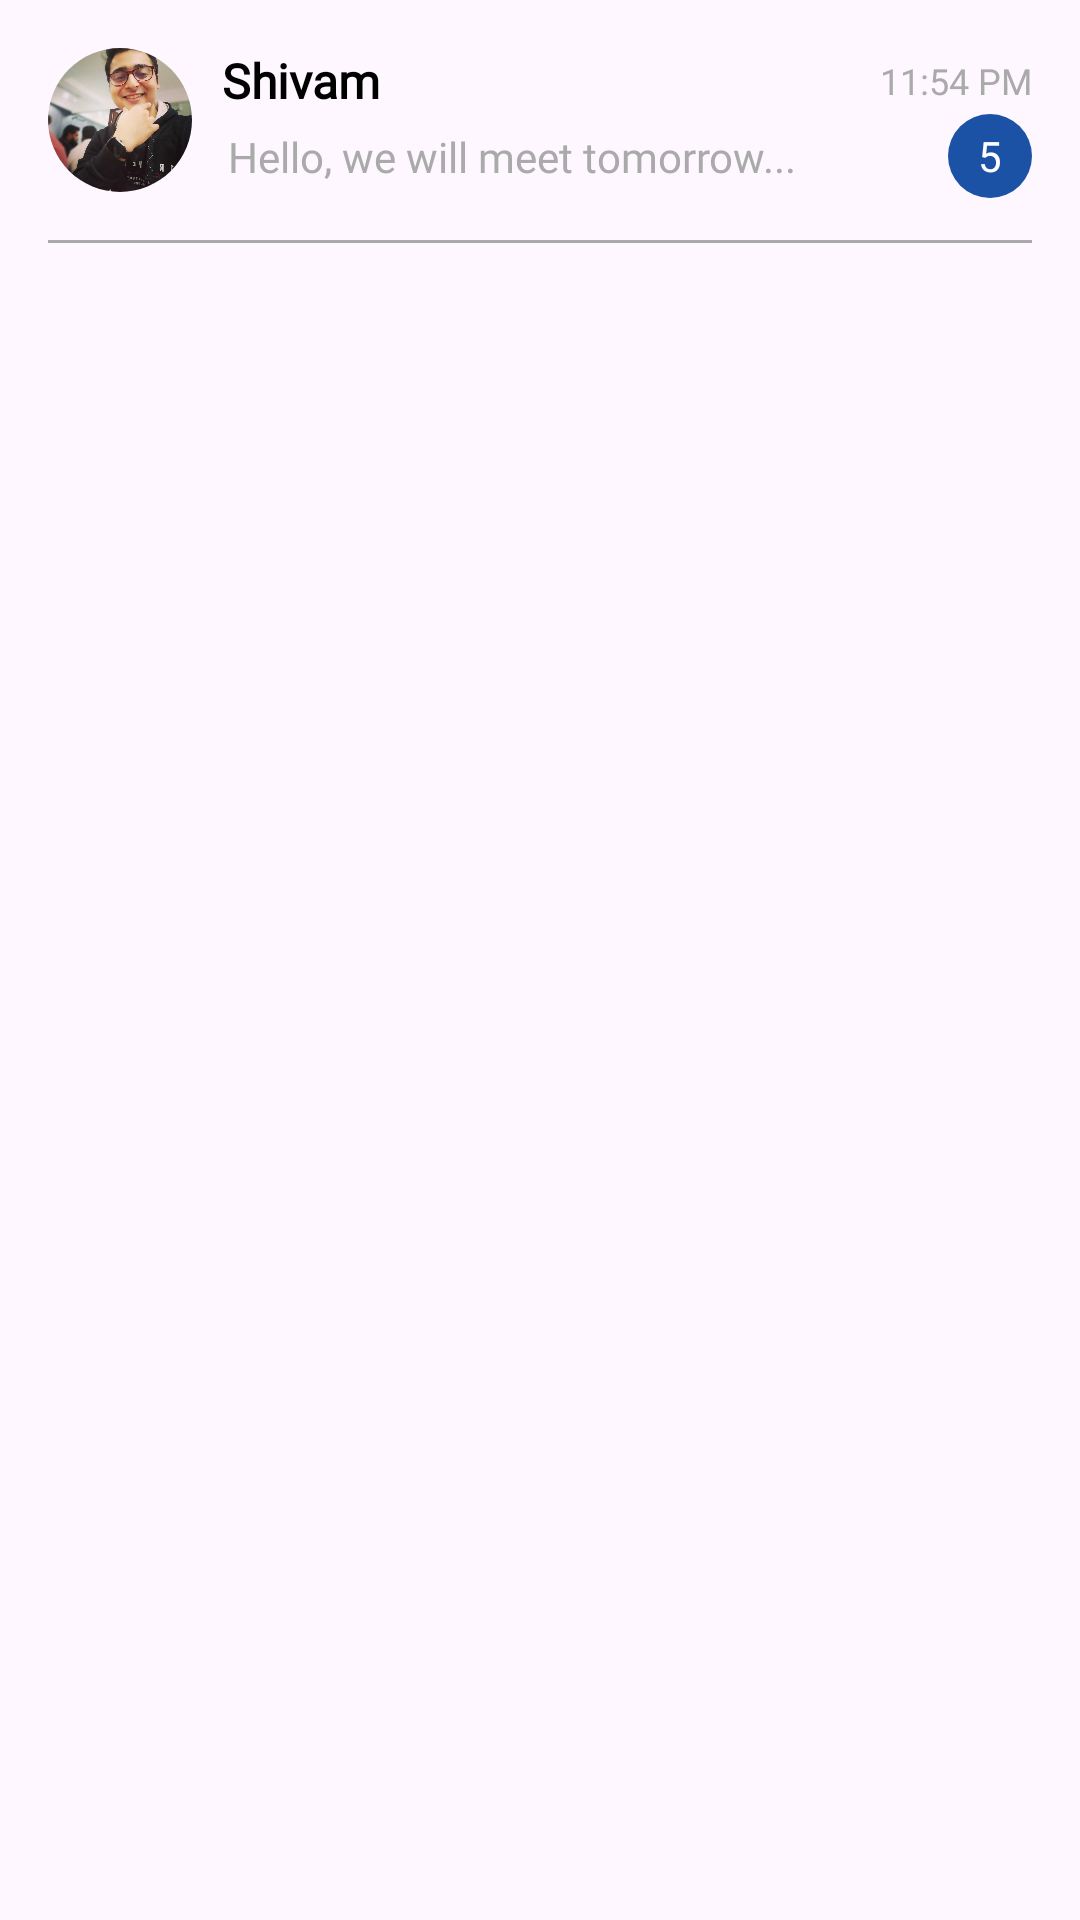

Icon click points for this 1080×1920 phone screenshot, format (x,y):
Chat Avatar: (120,120)
